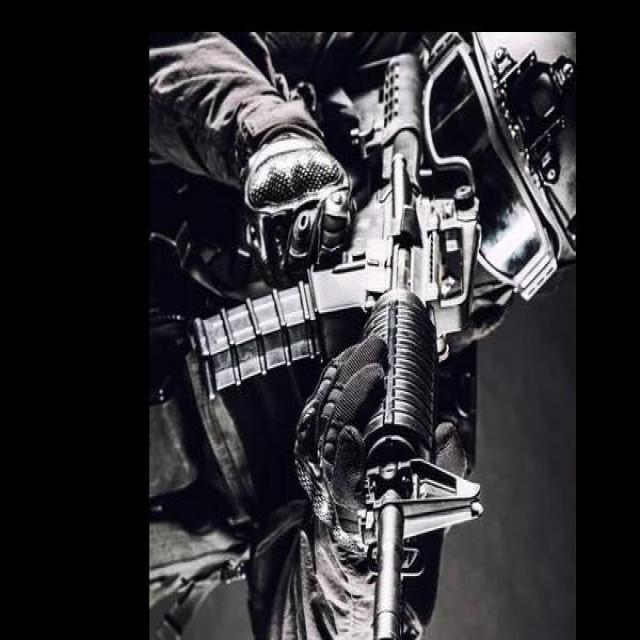weapon: (191, 53, 484, 640)
